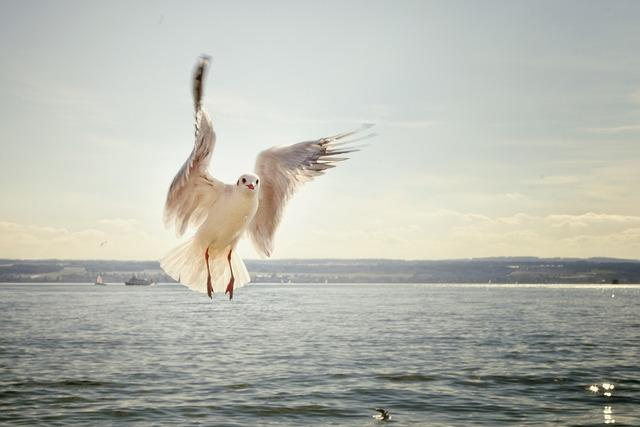bird: (160, 57, 354, 298)
